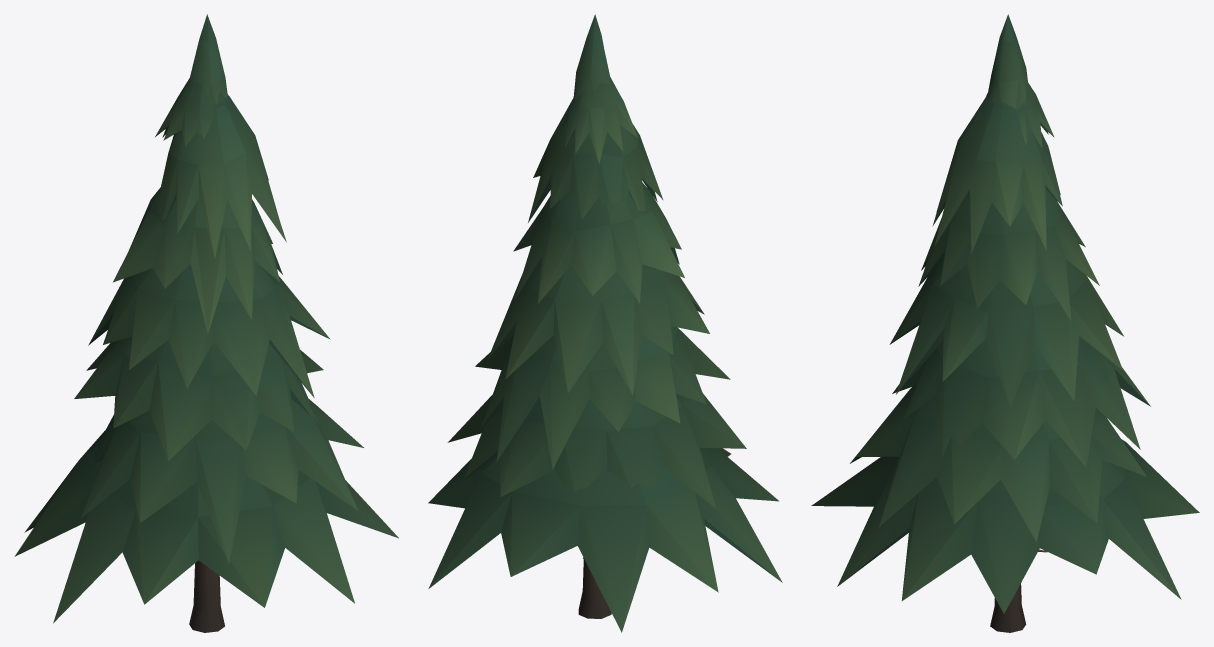
File: pine_mid.glb
3 renders of one model, left to right at view 1: azimuth 30°, elevation 25°; view 2: azimuth 150°, elevation 25°; view 3: azimuth 270°, elevation 25°, orthographic. The views are drawn at different scales.
Visible parts, largest first — view 1: pine_mid; view 2: pine_mid; view 3: pine_mid.
Part boxes in pixels (x1,y1,x2,y2): pine_mid: (14, 14, 398, 632); pine_mid: (428, 14, 782, 632); pine_mid: (811, 14, 1199, 632).
Size of the model in its own units: 6 by 11 by 6.34.
